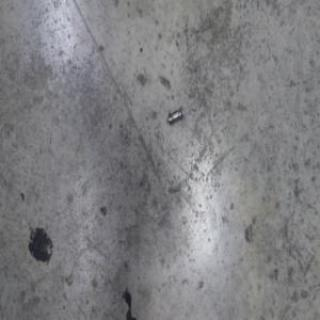Bolttrack_idkeyframe: (166, 108, 183, 128)
